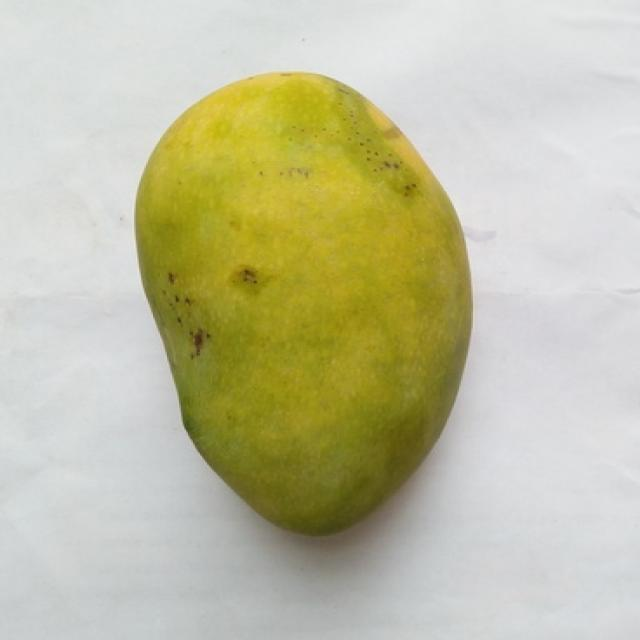Mango: (136, 73, 471, 533)
